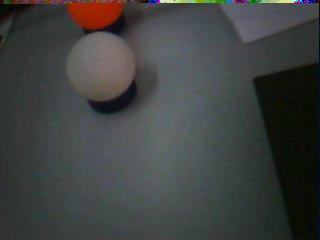oball: (67, 3, 123, 30)
